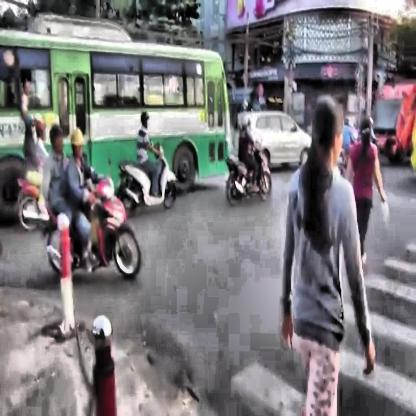not_wear: (312, 92, 344, 168), (241, 116, 251, 134)
wear: (70, 126, 86, 161), (48, 123, 64, 154), (35, 117, 46, 142), (140, 110, 149, 128)
